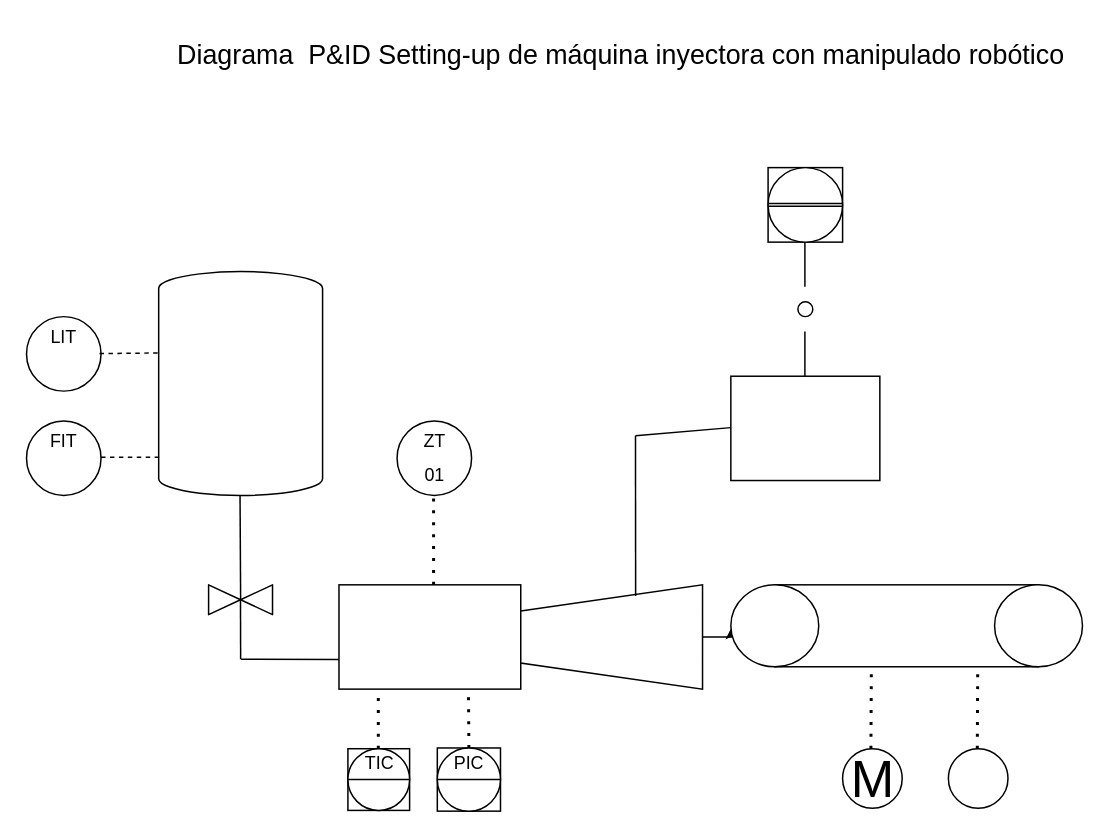
Image size: 1109x839. Some labels were removed from this diagram. The box of each missing label's shape, as (x1, y1, x2, y2) in pixels:
CSZ: (767, 166, 843, 242)
Robot: (729, 375, 880, 481)
ZT 02: (947, 747, 1008, 808)
